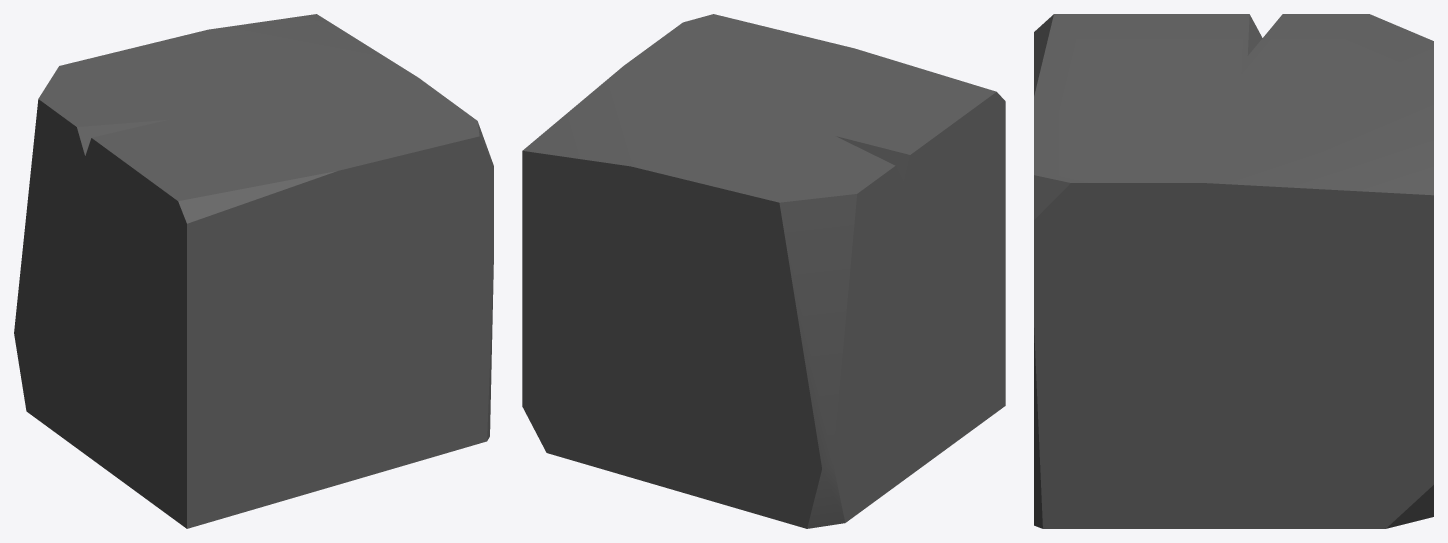
The picture shows the model from 3 angles, left to right: view 1: azimuth 30°, elevation 25°; view 2: azimuth 150°, elevation 25°; view 3: azimuth 270°, elevation 25°; orthographic projection. The views are drawn at different scales.
Parts seen in each view (by area): view 1: Cube_01_LOD0; view 2: Cube_01_LOD0; view 3: Cube_01_LOD0.
Part boxes in pixels (<box>): Cube_01_LOD0: <box>14,14,493,528</box>; Cube_01_LOD0: <box>522,14,1005,528</box>; Cube_01_LOD0: <box>1034,14,1433,528</box>.
Size of what is drawn, in the model's own units: 1 by 1 by 1.
